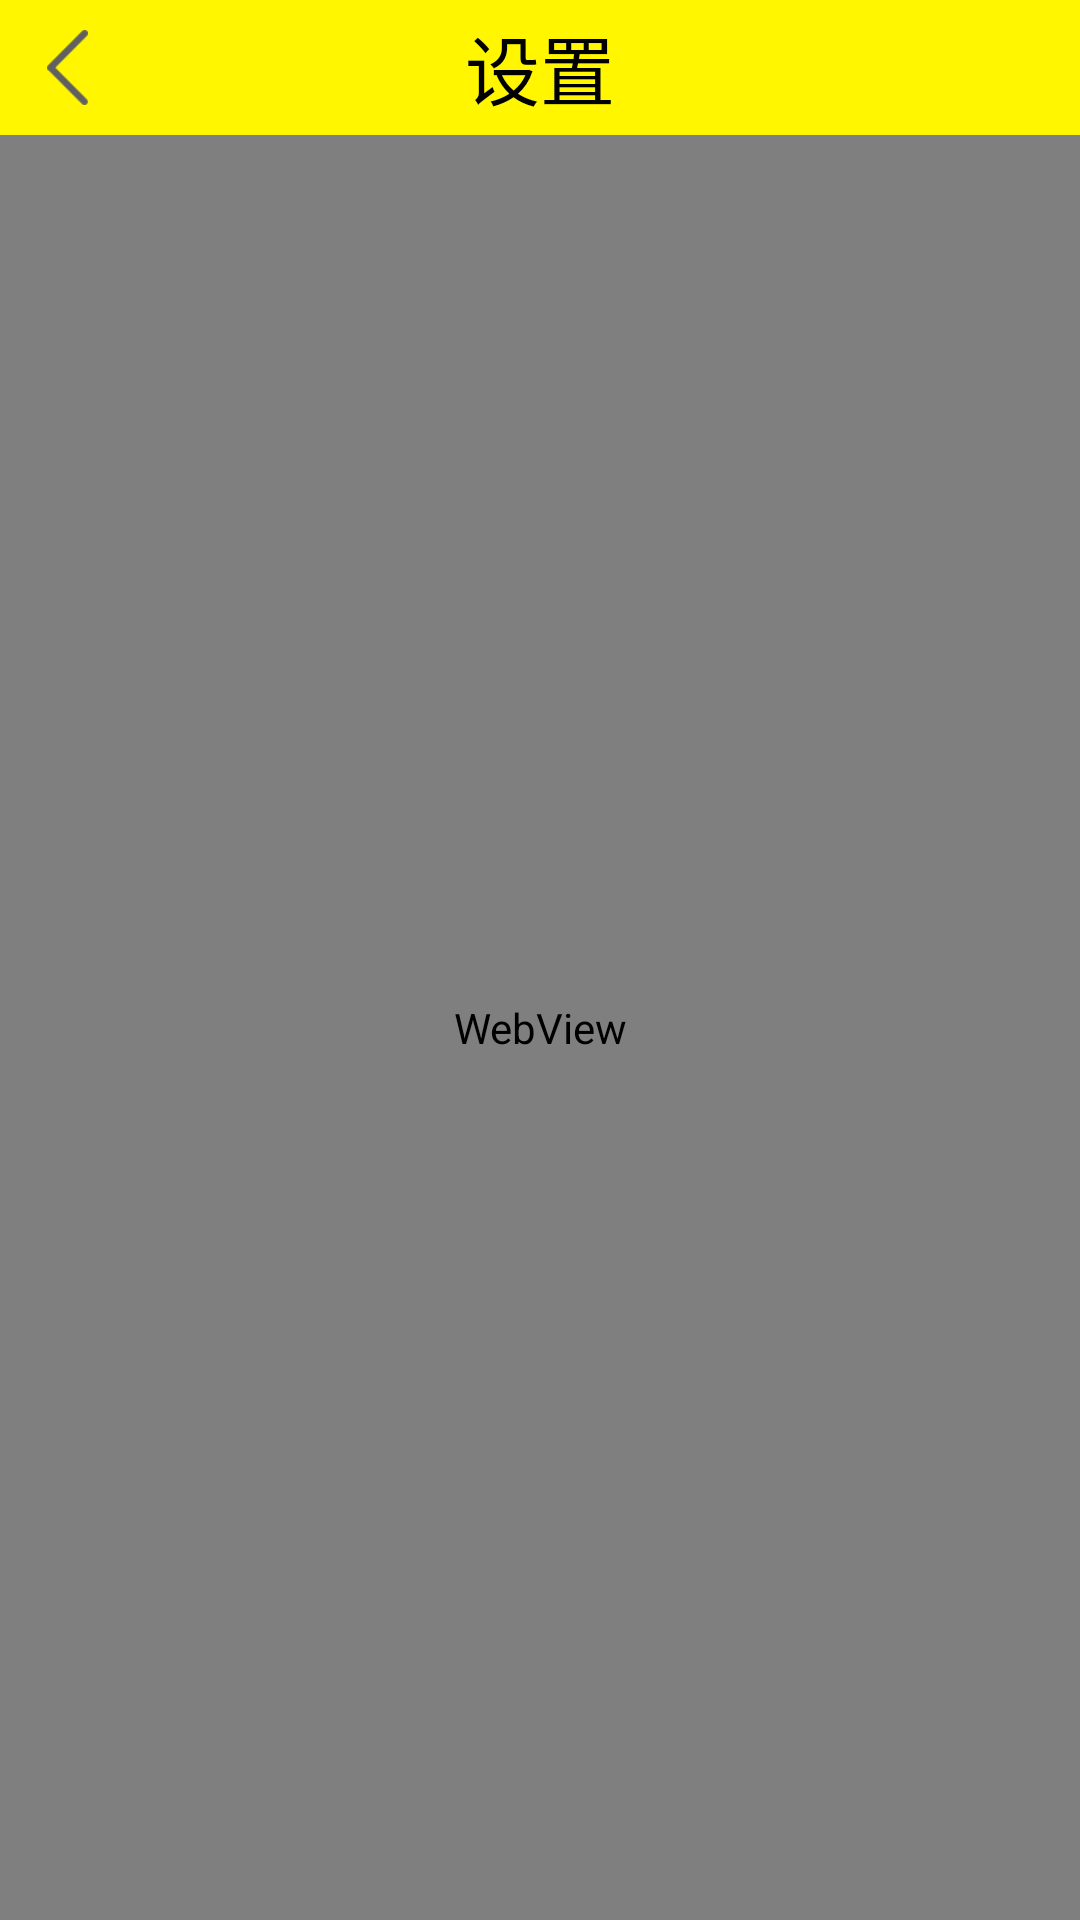

Icon click points for this 1080 x 1920 phone screenshot, format [x,y]:
back: [67,67]
